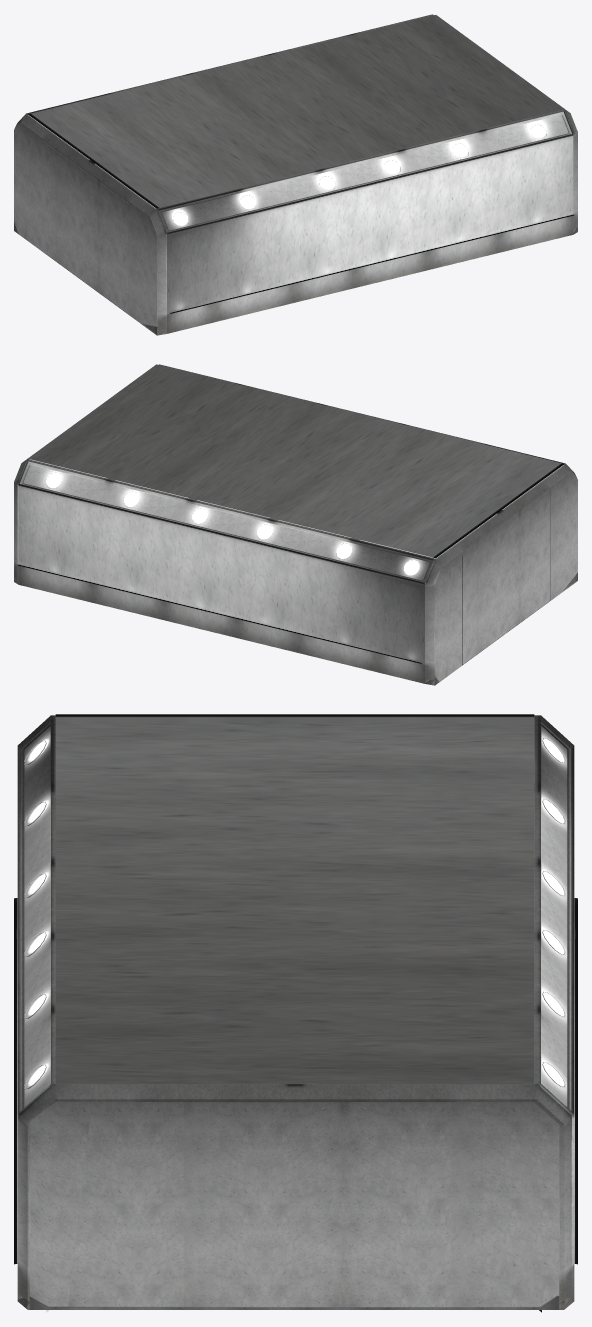
File: car_garage.glb
3 views of the same model, one above another, from view 1: azimuth 30°, elevation 25°; view 2: azimuth 150°, elevation 25°; view 3: azimuth 270°, elevation 25° (orthographic). The views are drawn at different scales.
Visible parts, largest first — view 1: Cube; view 2: Cube; view 3: Cube.
Boxes of the visible parts, bbox=[...] form: Cube: bbox=[14, 14, 577, 335]; Cube: bbox=[14, 364, 577, 685]; Cube: bbox=[14, 714, 577, 1312].
Size of the model in its own units: 16.53 by 4.52 by 10.34.
Materials: 4 (1 with a texture image).
